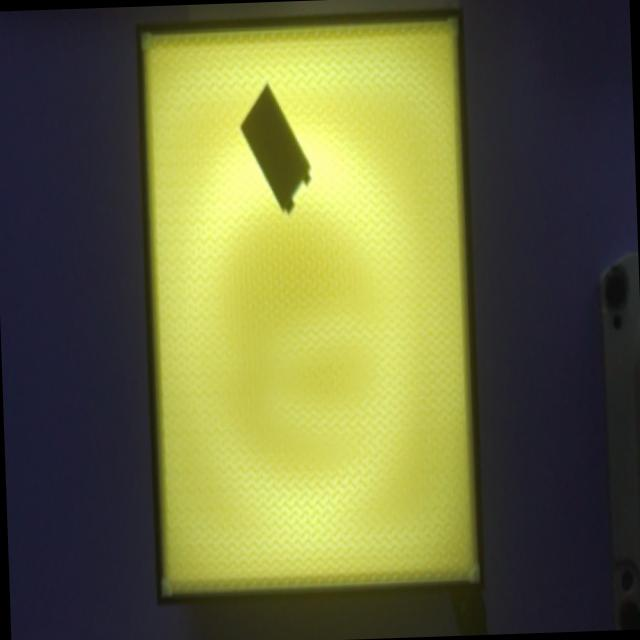bateria: (240, 81, 311, 214)
mesa: (135, 8, 484, 605)
